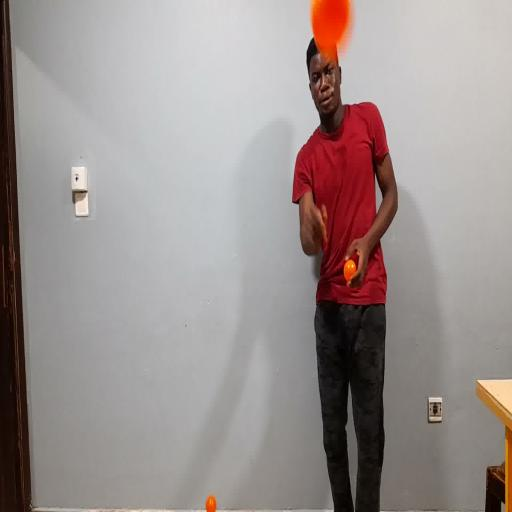plastic-ball: (307, 0, 357, 68)
